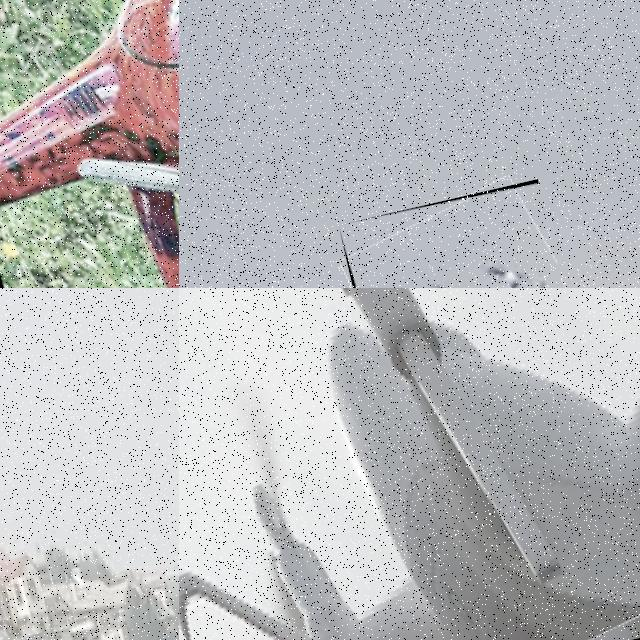0: (338, 178, 573, 288)
drone: (179, 288, 640, 640), (0, 0, 179, 288)
